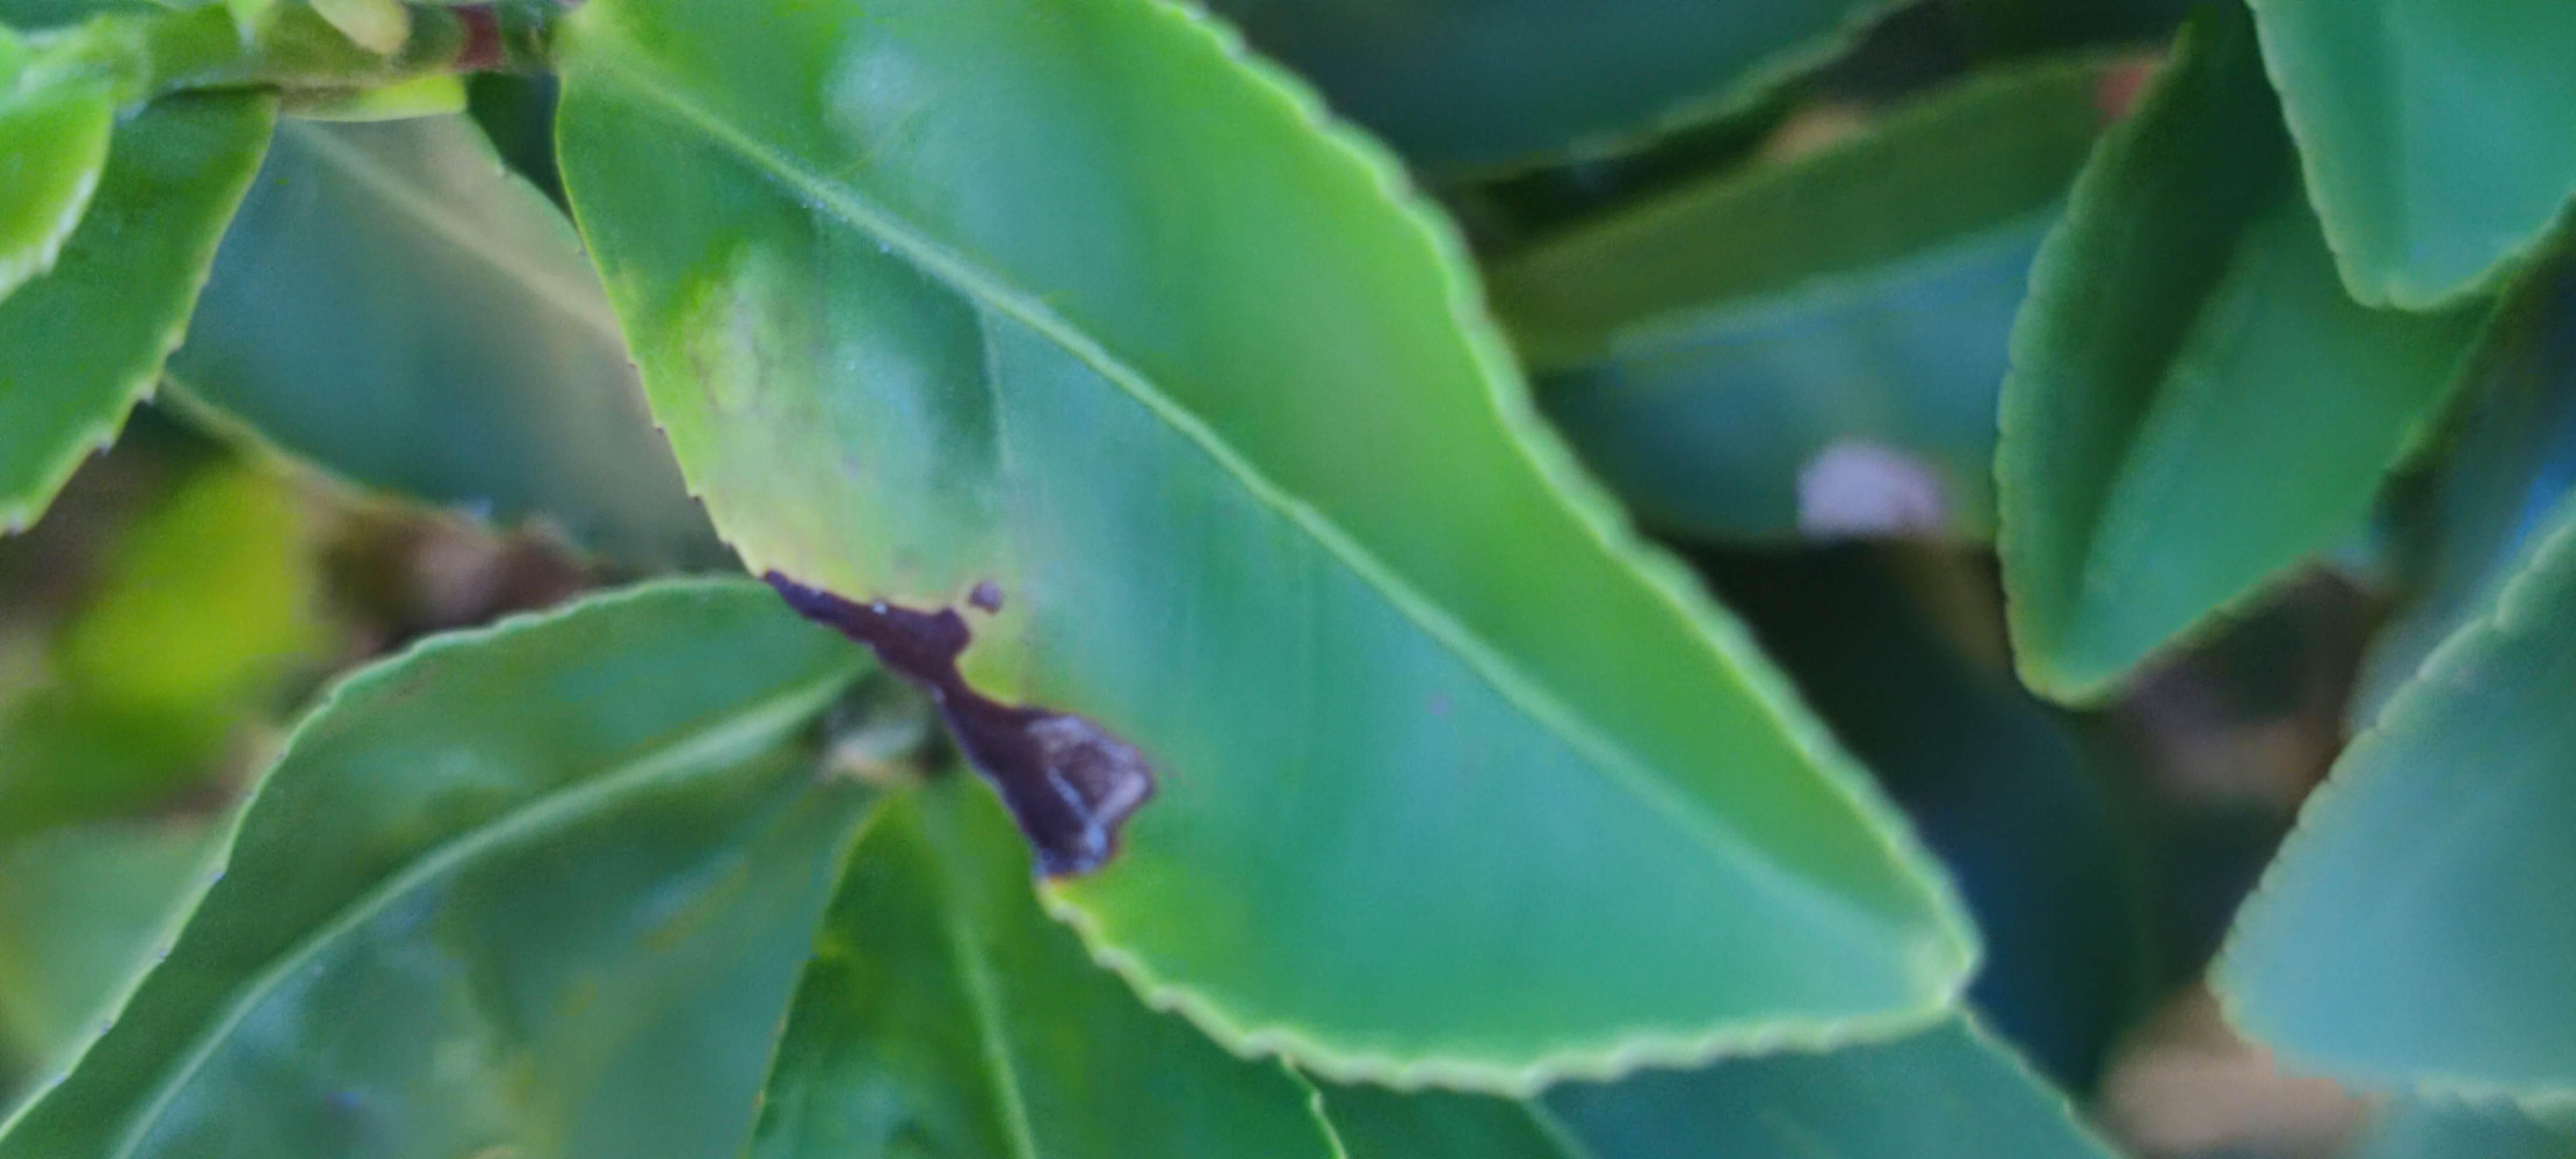healthy: (1988, 5, 2518, 689), (2196, 524, 2576, 1110), (2231, 2, 2574, 314)
tanju_high: (550, 8, 1978, 1090)
